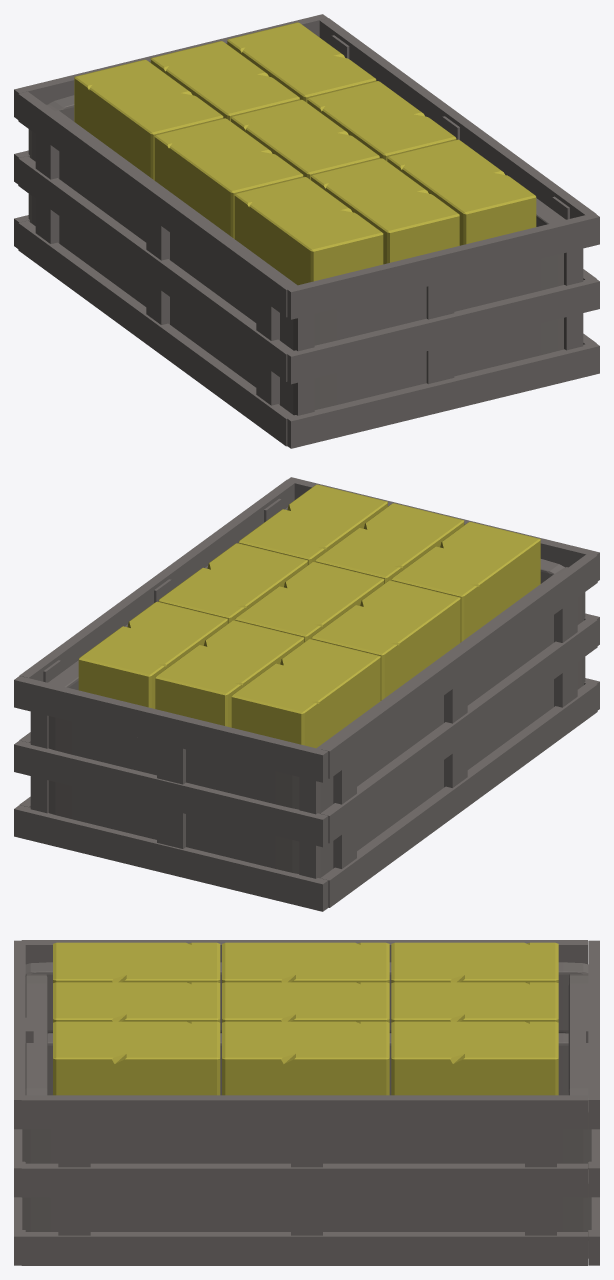
Rendered from Caixa de Metal Com metal Final 1.fbx.
3 views of the same model, one above another, from view 1: azimuth 30°, elevation 25°; view 2: azimuth 150°, elevation 25°; view 3: azimuth 270°, elevation 25° (orthographic). The views are drawn at different scales.
Visible parts, largest first — view 1: Caixa, Metal; view 2: Caixa, Metal; view 3: Caixa, Metal.
Part boxes in pixels (left/top/right/bottom): Caixa: left=14, top=14, right=599, bottom=448; Metal: left=74, top=22, right=536, bottom=285; Caixa: left=14, top=477, right=599, bottom=911; Metal: left=78, top=484, right=540, bottom=748; Caixa: left=14, top=940, right=599, bottom=1265; Metal: left=53, top=942, right=558, bottom=1095.
Bounding box in the file's own units: 213 × 116 × 329.
